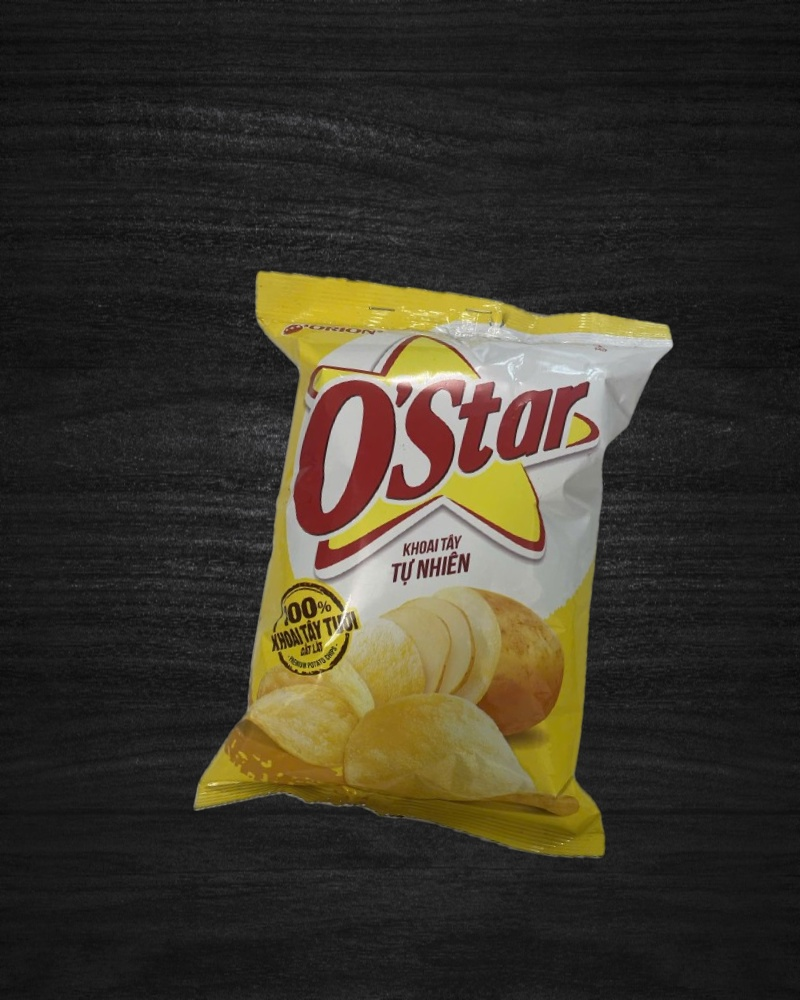O'star: (165, 253, 697, 882)
